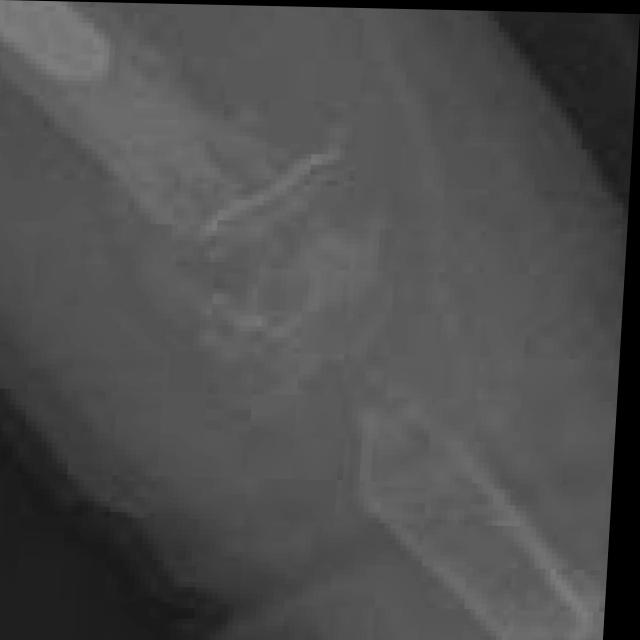fracture: (0, 5, 621, 640)
